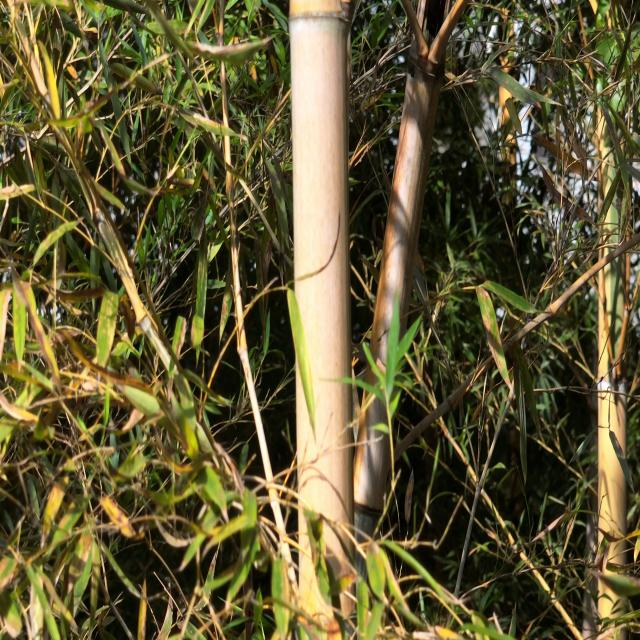Bamboo-shoots: (288, 0, 354, 640)
